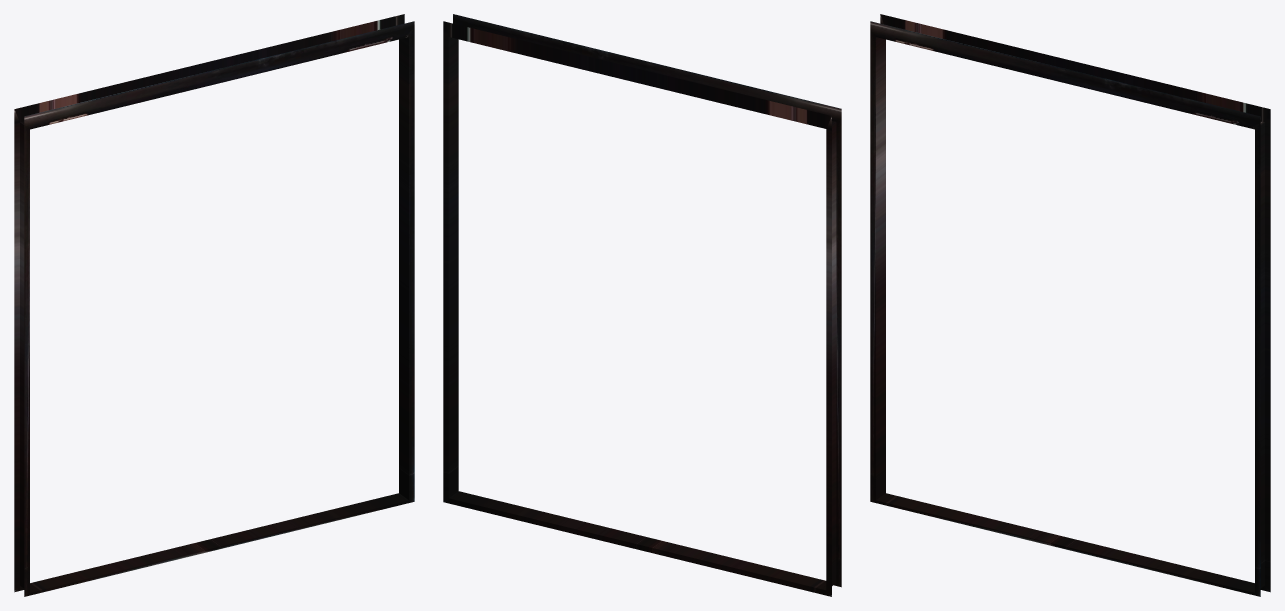
Rendered from stairs_arch.glb.
3 renders of one model, left to right at view 1: azimuth 30°, elevation 25°; view 2: azimuth 150°, elevation 25°; view 3: azimuth 330°, elevation 25°, orthographic.
Parts seen in each view (by area): view 1: Cube; view 2: Cube; view 3: Cube.
Part boxes in pixels (x1,y1,x2,y2): Cube: (14,14,414,596); Cube: (443,14,841,596); Cube: (870,14,1270,596).
Size of the model in its own units: 1.93 by 2.28 by 0.0844.
1 material, 1 textured.
